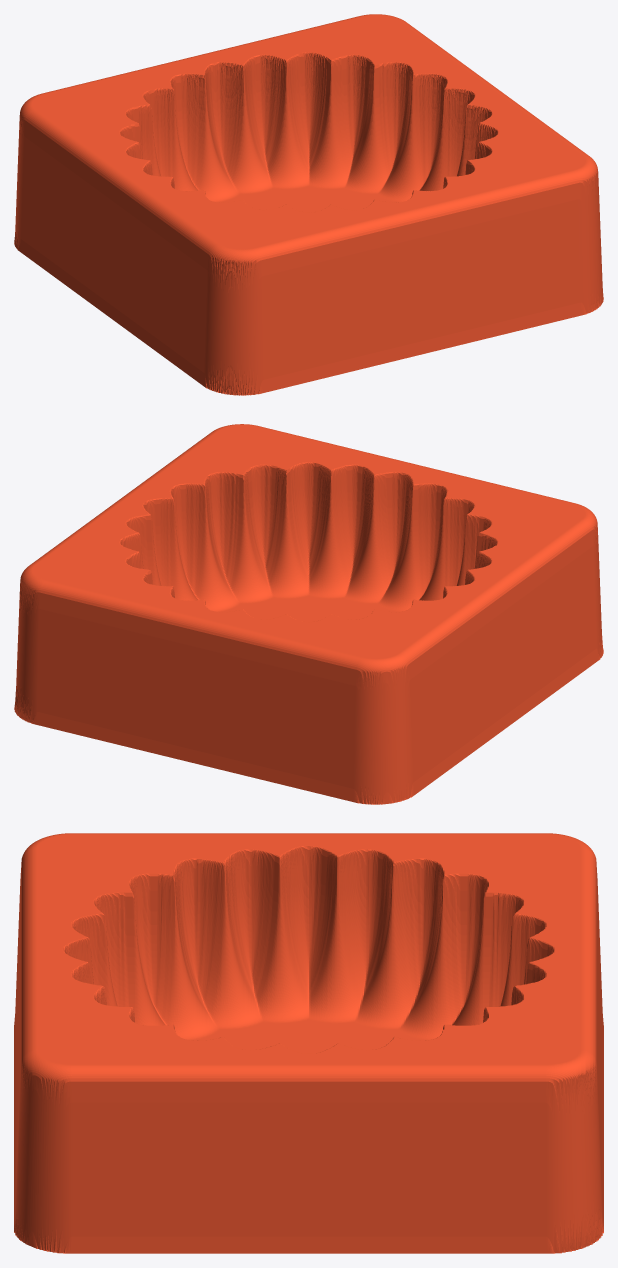
File: mold.glb
3 views of the same model, one above another, from view 1: azimuth 30°, elevation 25°; view 2: azimuth 150°, elevation 25°; view 3: azimuth 270°, elevation 25° (orthographic). The views are drawn at different scales.
Visible parts, largest first — view 1: geometry_0; view 2: geometry_0; view 3: geometry_0.
Part boxes in pixels (bbox=[...]): geometry_0: bbox=[14, 14, 603, 395]; geometry_0: bbox=[14, 424, 603, 804]; geometry_0: bbox=[14, 833, 603, 1253].
Size of the model in its own units: 0.0924 by 0.031 by 0.0924.
